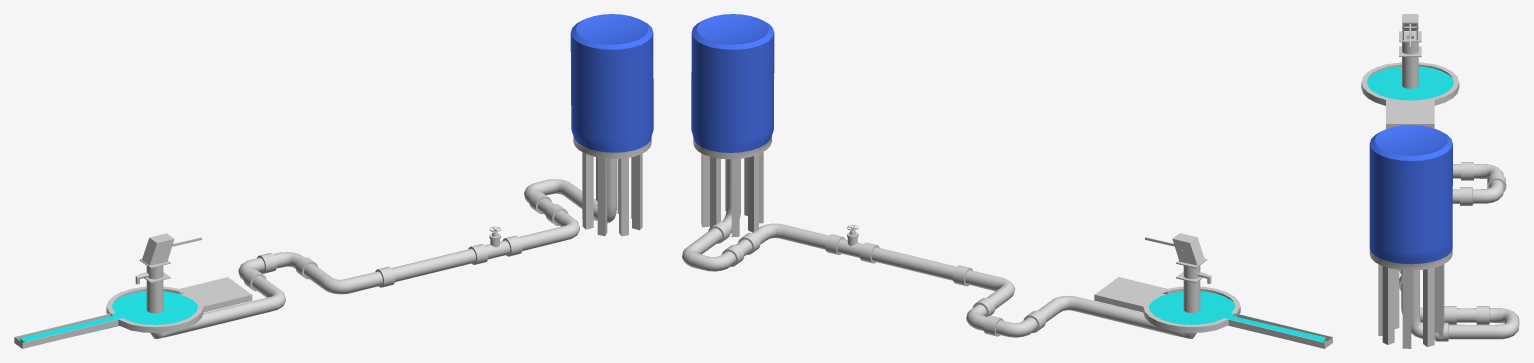
Rendered from combinaison.glb.
3 views of the same model, side by side, from view 1: azimuth 30°, elevation 25°; view 2: azimuth 150°, elevation 25°; view 3: azimuth 270°, elevation 25° (orthographic).
Visible parts, largest first — view 1: all; view 2: all; view 3: all.
Boxes of the visible parts, x1,y1,x2,y2 form: all: (14,14,653,348); all: (682,14,1332,348); all: (1361,14,1519,348).
Bounding box in the file's own units: 177 × 53.61 × 38.17.
